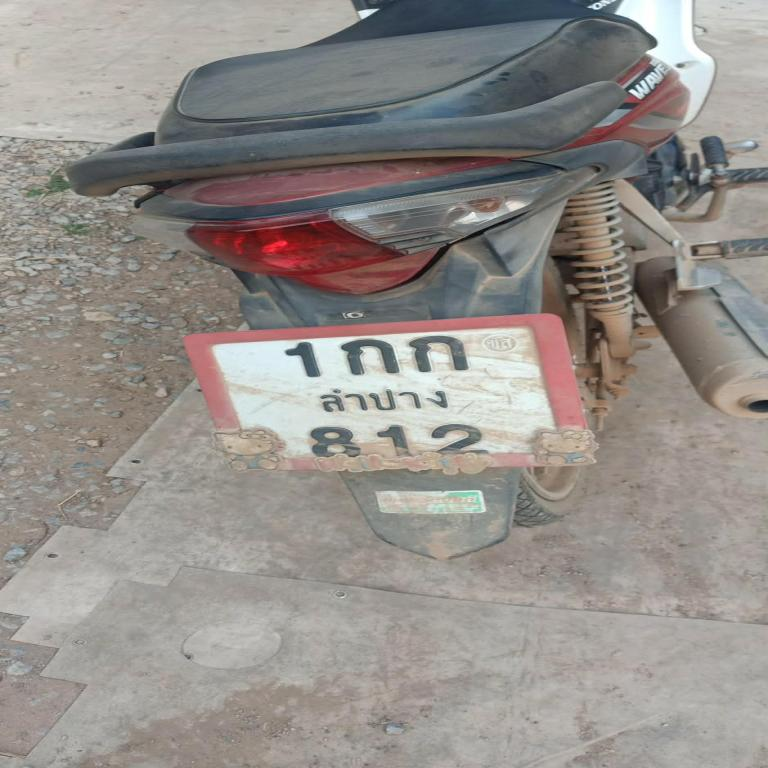license plate: (182, 312, 597, 472)
